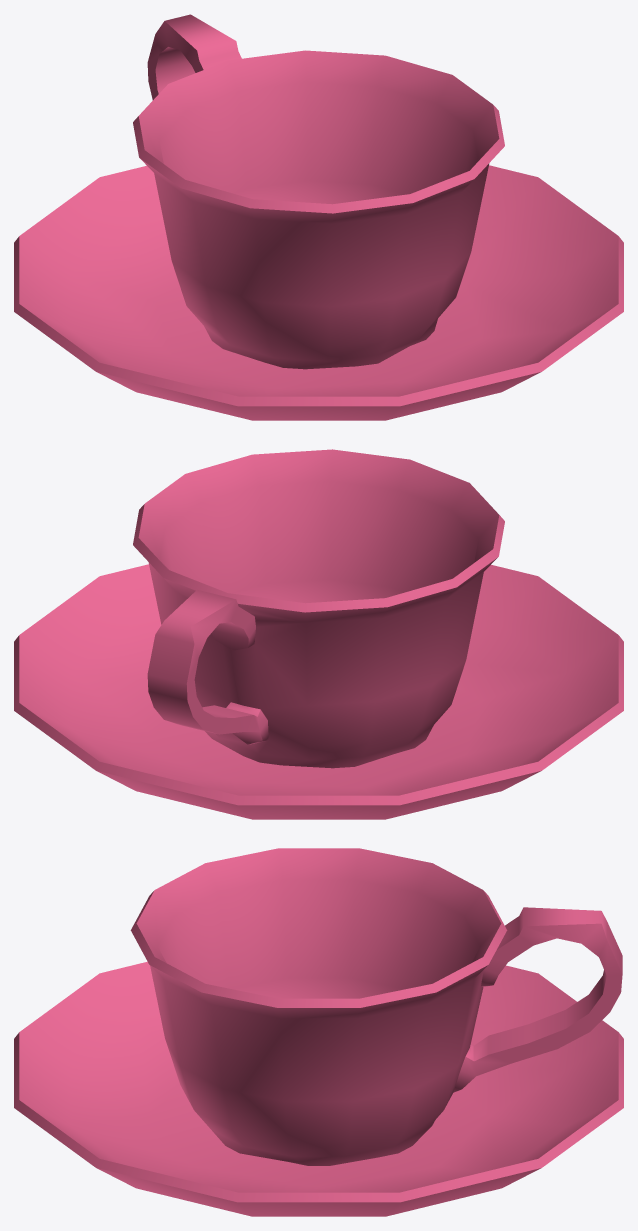
The model's file is Tableware_V3_5.fbx.
3 renders of one model, top to bottom at view 1: azimuth 30°, elevation 25°; view 2: azimuth 150°, elevation 25°; view 3: azimuth 270°, elevation 25°, orthographic.
Visible parts, largest first — view 1: SM_Tableware_V3_5; view 2: SM_Tableware_V3_5; view 3: SM_Tableware_V3_5.
Part boxes in pixels (x1,y1,x2,y2): SM_Tableware_V3_5: [14, 14, 623, 420]; SM_Tableware_V3_5: [14, 449, 623, 819]; SM_Tableware_V3_5: [14, 848, 623, 1216].
Bounding box in the file's own units: 13.72 × 5.54 × 13.72.
